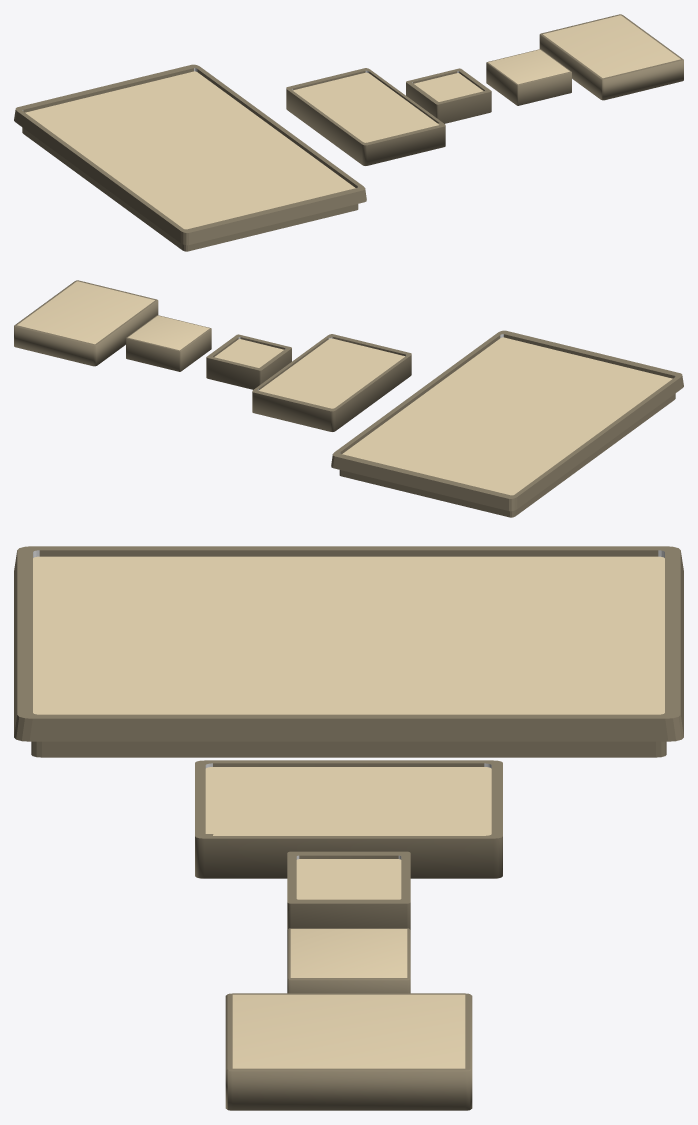
File: Puzzle island 1 platforms.fbx
The picture shows the model from 3 angles, top to bottom: view 1: azimuth 30°, elevation 25°; view 2: azimuth 150°, elevation 25°; view 3: azimuth 270°, elevation 25°; orthographic projection. The views are drawn at different scales.
Visible parts, largest first — view 1: Tree.006, Tree.010, Tree.009, Tree.008, Tree.007; view 2: Tree.006, Tree.010, Tree.009, Tree.008, Tree.007; view 3: Tree.006, Tree.010, Tree.009, Tree.007, Tree.008.
Part boxes in pixels (left/top/right/bottom): Tree.006: left=14, top=64, right=366, bottom=251; Tree.010: left=286, top=68, right=445, bottom=165; Tree.009: left=539, top=14, right=683, bottom=100; Tree.008: left=486, top=49, right=571, bottom=105; Tree.007: left=406, top=68, right=491, bottom=123; Tree.006: left=331, top=330, right=683, bottom=517; Tree.010: left=252, top=334, right=411, bottom=431; Tree.009: left=14, top=280, right=158, bottom=366; Tree.008: left=126, top=315, right=211, bottom=371; Tree.007: left=206, top=334, right=291, bottom=389; Tree.006: left=14, top=546, right=683, bottom=757; Tree.010: left=195, top=760, right=502, bottom=878; Tree.009: left=225, top=993, right=472, bottom=1110; Tree.007: left=287, top=851, right=410, bottom=929; Tree.008: left=287, top=928, right=410, bottom=993.
Bounding box in the file's own units: 1616 × 62.13 × 873.
